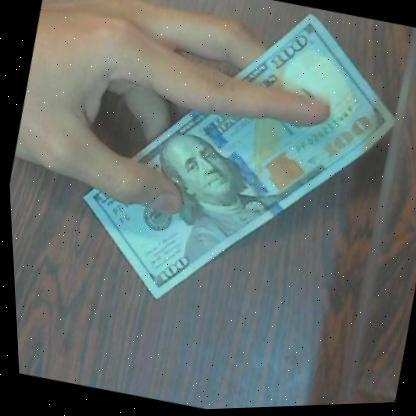one_hundred-front: (48, 0, 416, 353)
